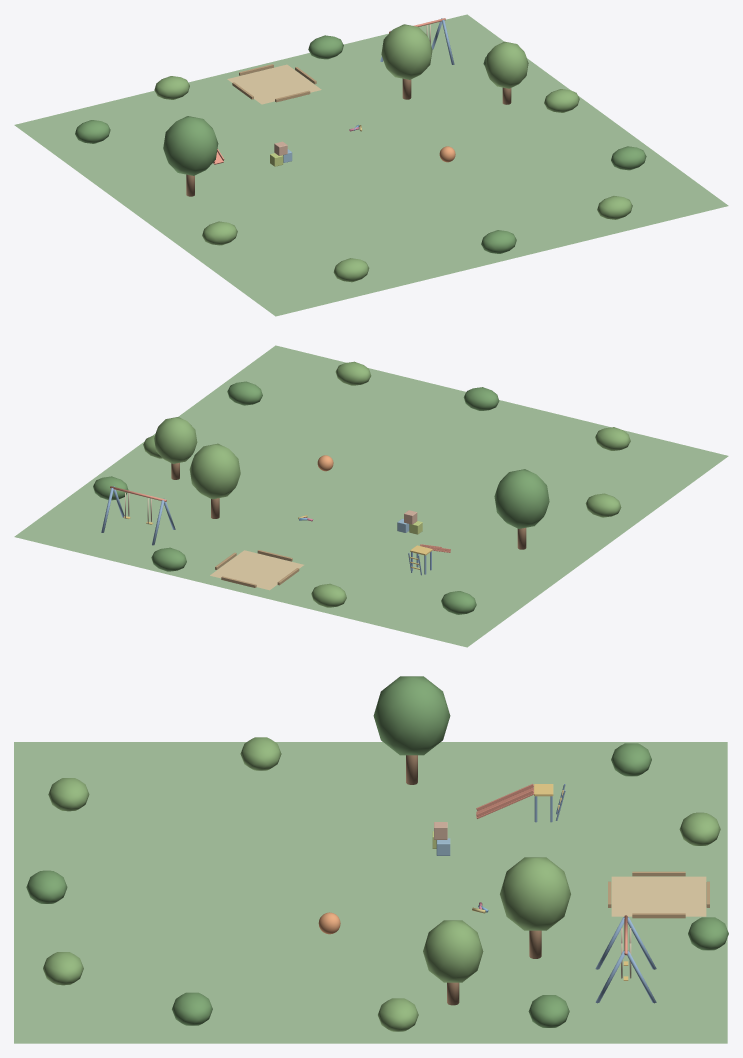
File: environment.glb
3 views of the same model, one above another, from view 1: azimuth 30°, elevation 25°; view 2: azimuth 150°, elevation 25°; view 3: azimuth 270°, elevation 25° (orthographic). The views are drawn at different scales.
Parts seen in each view (by area): view 1: Ground, Bushes, TreeDeco1, Sandbox, Tree, TreeDeco2; view 2: Ground, Bushes, TreeDeco1, Sandbox, Tree, TreeDeco2, Swing, Slide; view 3: Ground, Bushes, TreeDeco1, Tree, Sandbox, TreeDeco2, Swing, Slide.
Part boxes in pixels (x1,y1,x2,y2): Ground: [14, 14, 728, 316]; Bushes: [75, 35, 646, 282]; TreeDeco1: [163, 116, 218, 196]; Sandbox: [227, 64, 321, 104]; Tree: [381, 24, 432, 99]; TreeDeco2: [485, 41, 528, 104]; Ground: [14, 345, 728, 647]; Bushes: [93, 361, 630, 614]; TreeDeco1: [494, 469, 549, 549]; Sandbox: [210, 550, 303, 590]; Tree: [189, 443, 240, 518]; TreeDeco2: [154, 417, 197, 479]; Swing: [101, 486, 175, 545]; Slide: [408, 544, 450, 575]; Ground: [14, 742, 727, 1043]; Bushes: [26, 737, 728, 1031]; TreeDeco1: [373, 676, 450, 784]; Tree: [500, 857, 570, 958]; Sandbox: [608, 871, 709, 918]; TreeDeco2: [423, 920, 483, 1005]; Swing: [595, 915, 656, 1003]; Slide: [476, 784, 565, 822].
Size of the model in its own units: 26 by 4.33 by 26.05.
